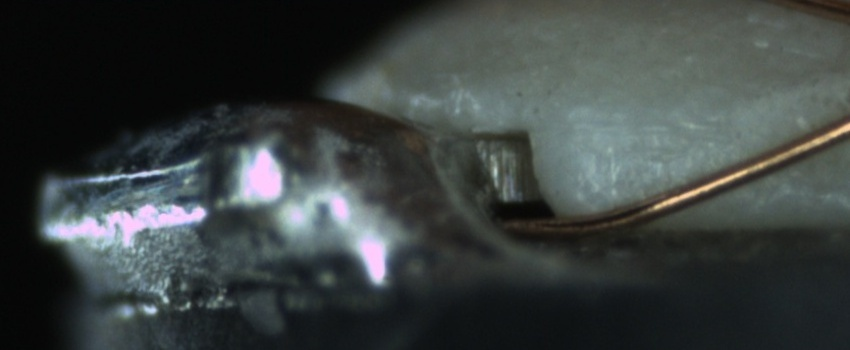DL: (566, 96, 722, 157)
